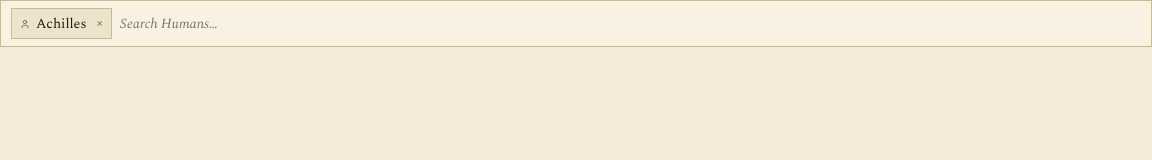
Test: WikilinkListField candidates › excludes folios already selected
Click the dropdown named "Allies". click: (630, 24)
box: [120, 8, 1141, 39]
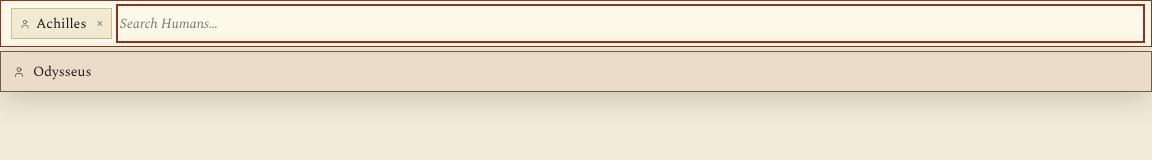
Expected: the options read "Odysseus", in this order, [1, 52, 1151, 91]
